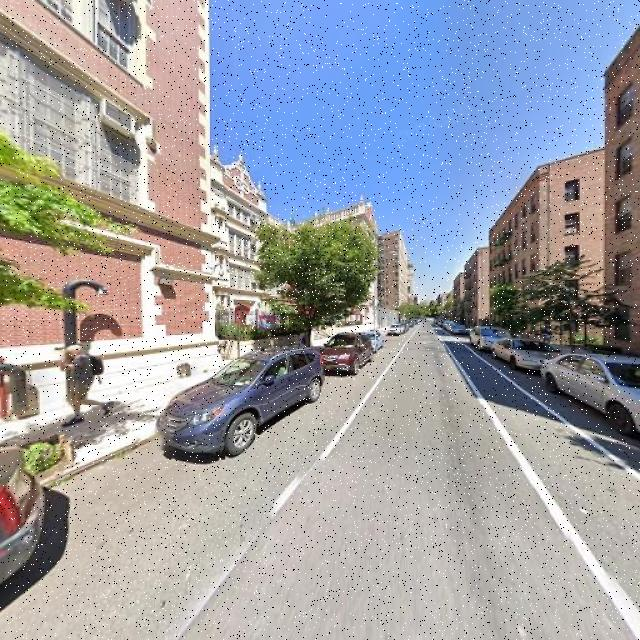Building: (1, 1, 289, 417), (603, 38, 640, 367), (489, 172, 539, 344), (364, 207, 377, 335), (468, 255, 476, 329)
